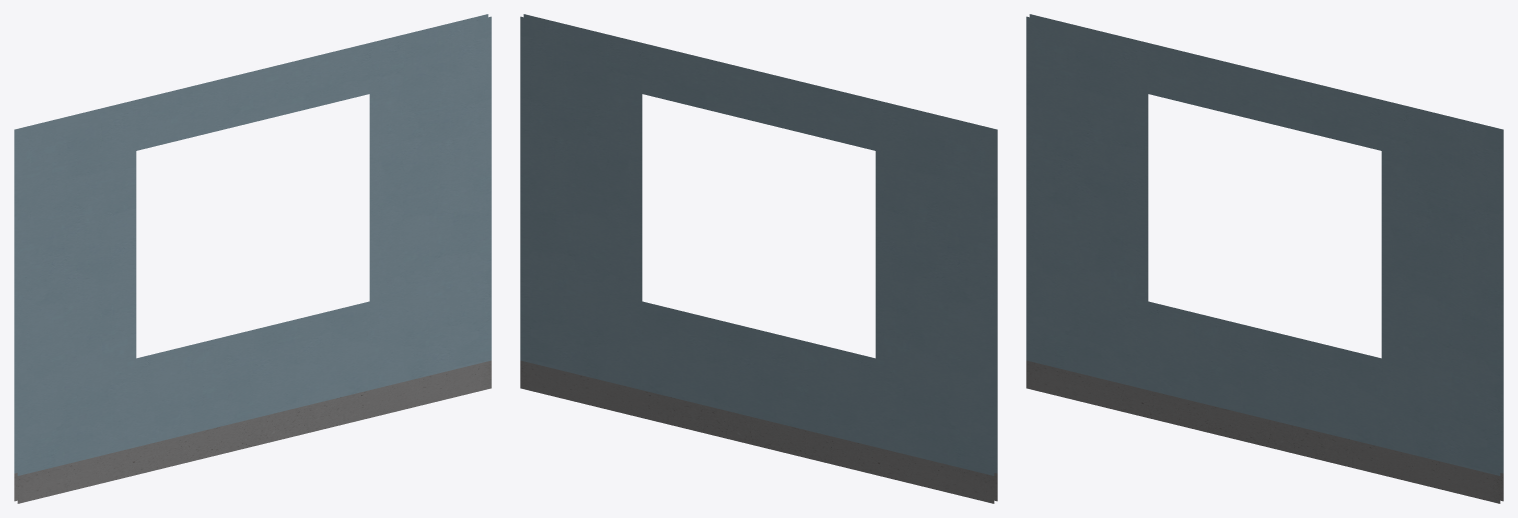
File: wall_1B_1.FBX
3 renders of one model, left to right at view 1: azimuth 30°, elevation 25°; view 2: azimuth 150°, elevation 25°; view 3: azimuth 330°, elevation 25°, orthographic.
Parts seen in each view (by area): view 1: wall_1B_1; view 2: wall_1B_1; view 3: wall_1B_1.
Part boxes in pixels (x1,y1,x2,y2): wall_1B_1: [14, 14, 491, 503]; wall_1B_1: [520, 14, 997, 503]; wall_1B_1: [1026, 14, 1503, 503].
Size of the model in its own units: 40 by 30 by 0.5.
